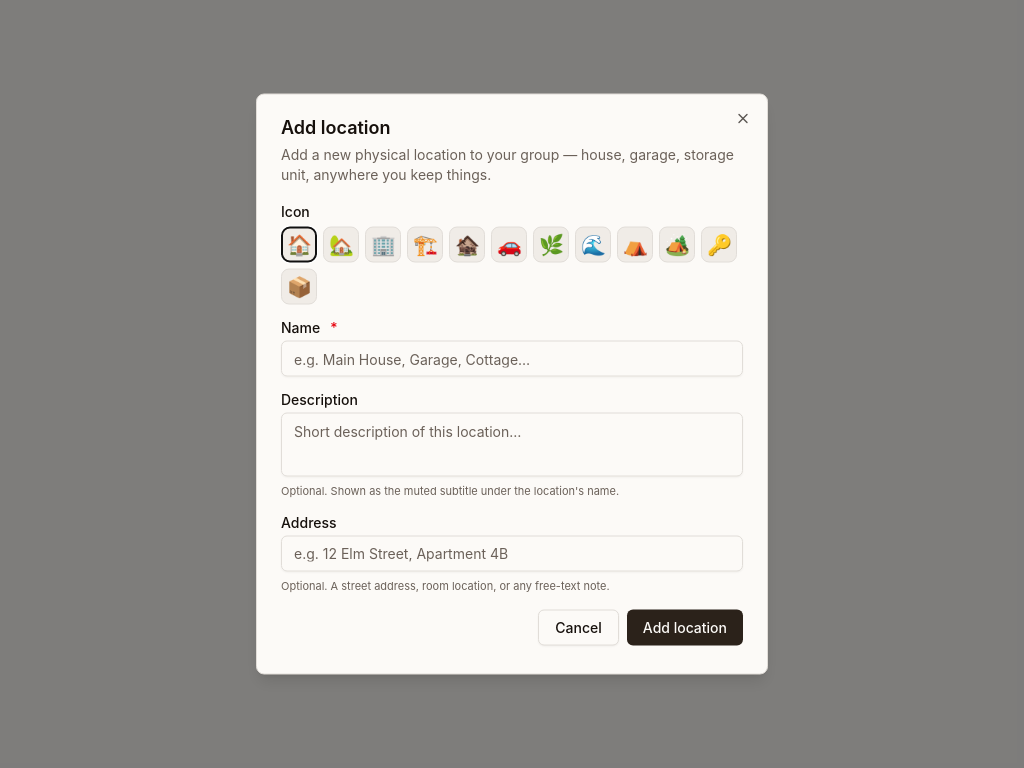
Scenario: <LocationFormDialog /> › maps a 422 field validation error onto the offending input instead of a generic banner
The width and height of the screenshot is (1024, 768).
Type "Garage" into the field with test id "location-name-input" at (512, 358), box [281,340,743,376]
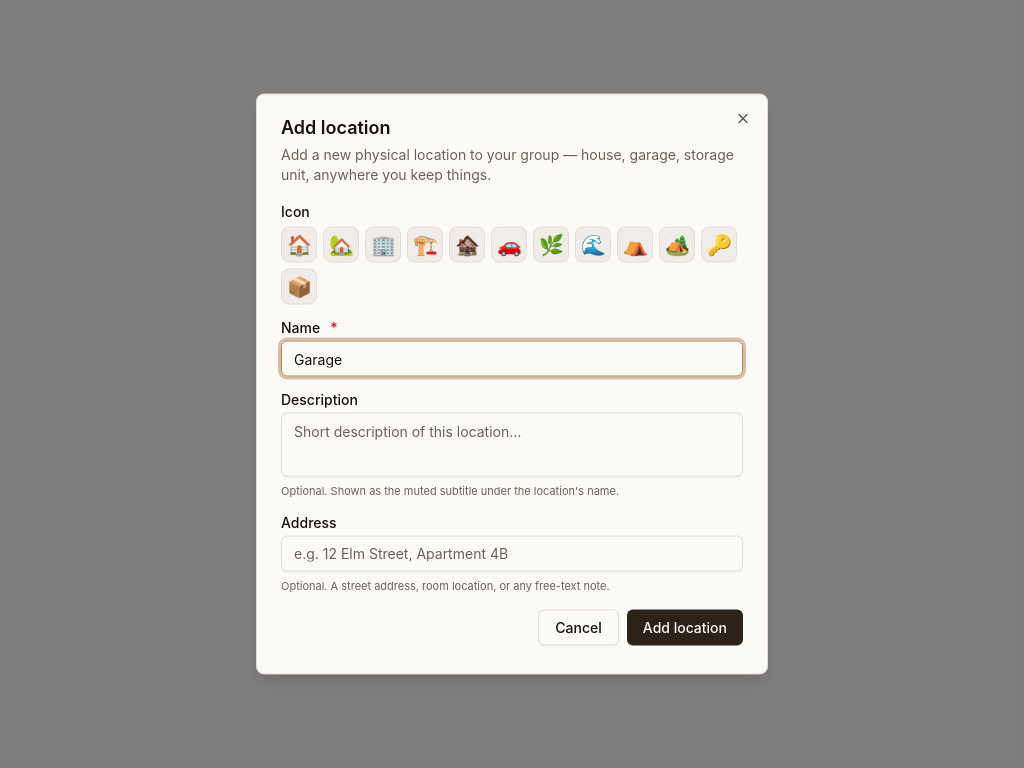
Click the button with test id "location-form-submit" at (685, 628), box [627,610,743,646]
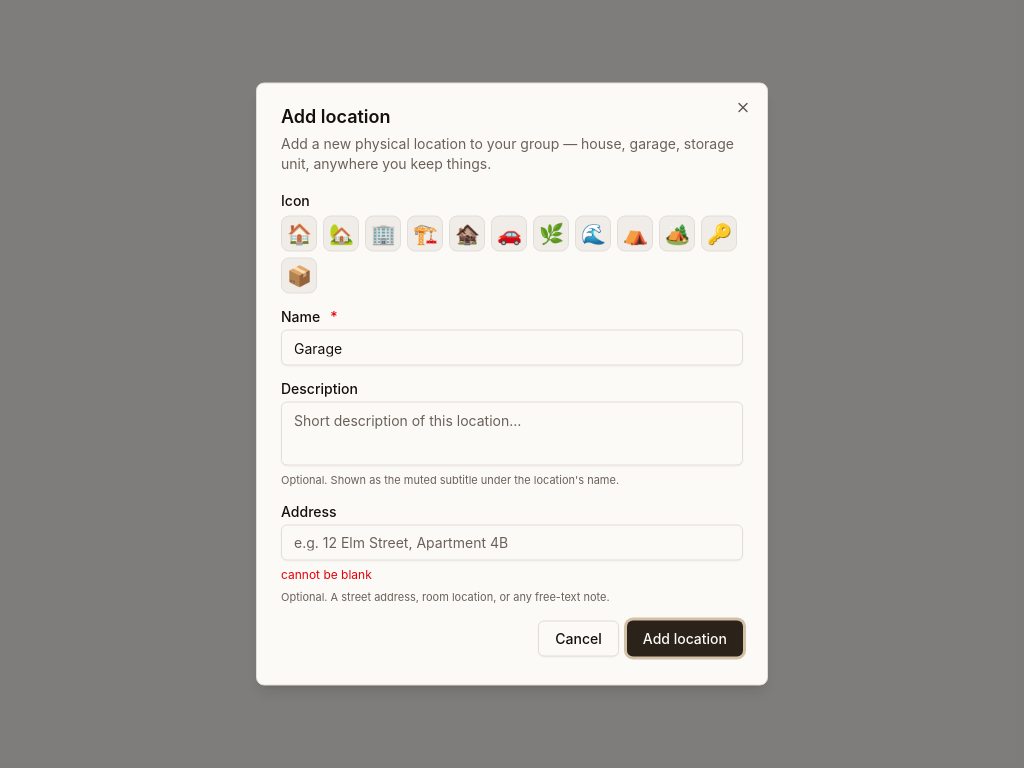
Check: the text with test id "location-address-error" reads "cannot be blank", box [281,566,372,581]
